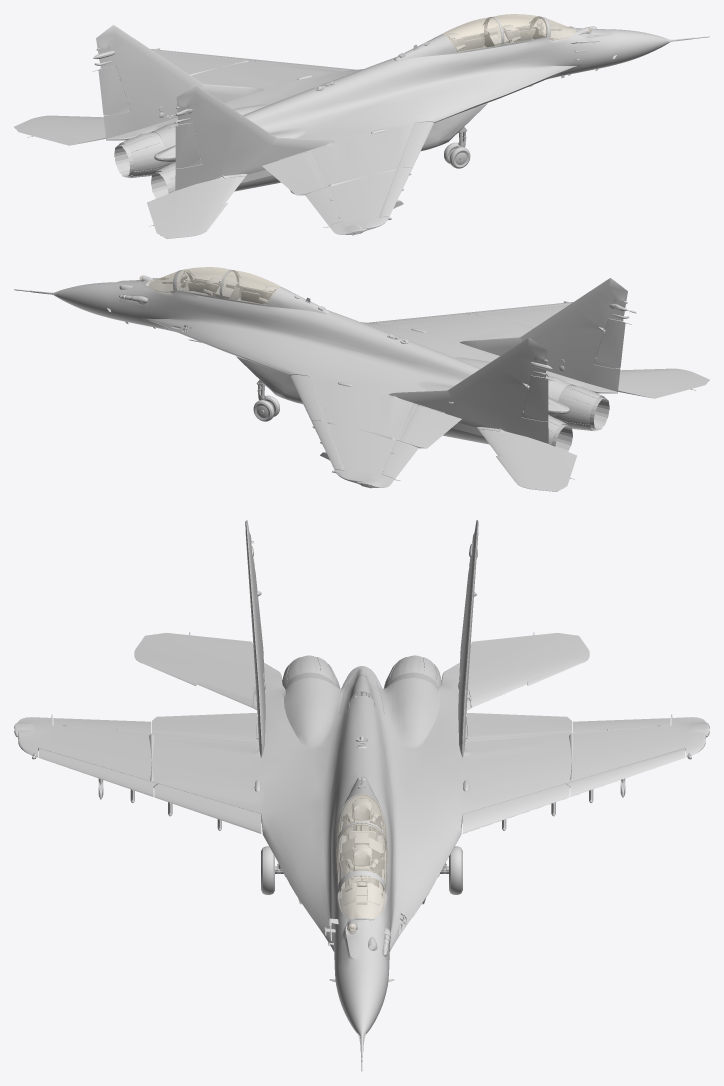
The picture shows the model from 3 angles, top to bottom: view 1: azimuth 30°, elevation 25°; view 2: azimuth 150°, elevation 25°; view 3: azimuth 270°, elevation 25°; orthographic projection. The views are drawn at different scales.
Parts seen in each view (by area): view 1: MiG-35-Airframe_0, MiG-35-Canopy_1, MiG-35-Cockpit_2, MiG-35-LandingOpen_6; view 2: MiG-35-Airframe_0, MiG-35-Canopy_1, MiG-35-Cockpit_2, MiG-35-LandingOpen_6; view 3: MiG-35-Airframe_0, MiG-35-Canopy_1, MiG-35-Cockpit_2, MiG-35-LandingOpen_6.
Part boxes in pixels (<box>): MiG-35-Airframe_0: <box>14,16,709,238</box>; MiG-35-Canopy_1: <box>443,14,575,51</box>; MiG-35-Cockpit_2: <box>445,16,575,51</box>; MiG-35-LandingOpen_6: <box>444,127,470,168</box>; MiG-35-Airframe_0: <box>14,269,709,491</box>; MiG-35-Canopy_1: <box>148,267,280,304</box>; MiG-35-Cockpit_2: <box>148,269,278,304</box>; MiG-35-LandingOpen_6: <box>253,380,279,421</box>; MiG-35-Airframe_0: <box>14,520,709,1071</box>; MiG-35-Canopy_1: <box>336,794,387,918</box>; MiG-35-Cockpit_2: <box>337,794,386,918</box>; MiG-35-LandingOpen_6: <box>261,846,462,894</box>.
Size of the model in its own units: 176 by 49.95 by 120.
